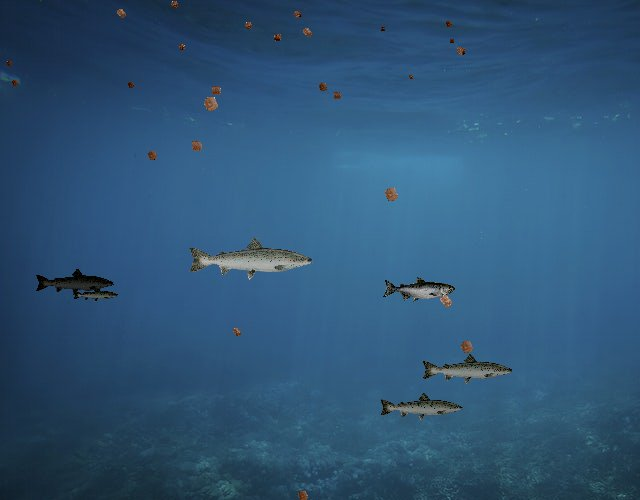Fish: (186, 235, 315, 281), (420, 352, 514, 386), (378, 391, 464, 422), (34, 267, 115, 296), (382, 276, 455, 303), (73, 286, 120, 303)
Pellet: (196, 88, 226, 118), (432, 288, 459, 315), (454, 334, 479, 360), (185, 135, 208, 158), (292, 485, 314, 500), (174, 40, 189, 55), (124, 78, 138, 92)
